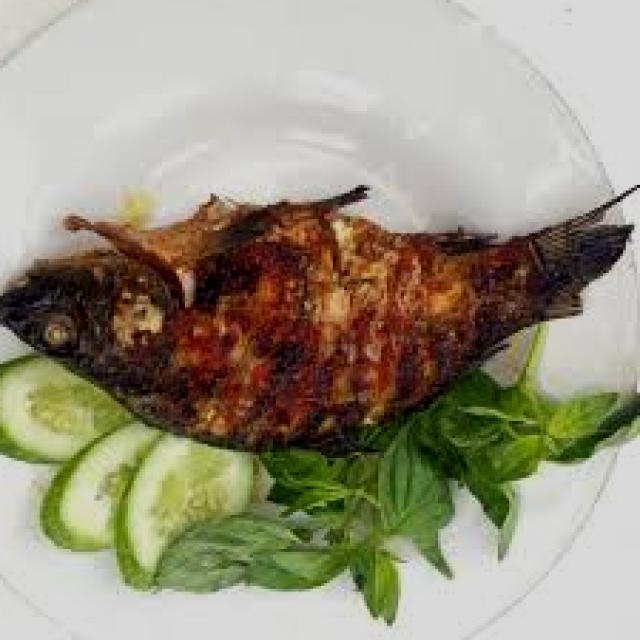ikan bakar: (0, 188, 634, 461)
